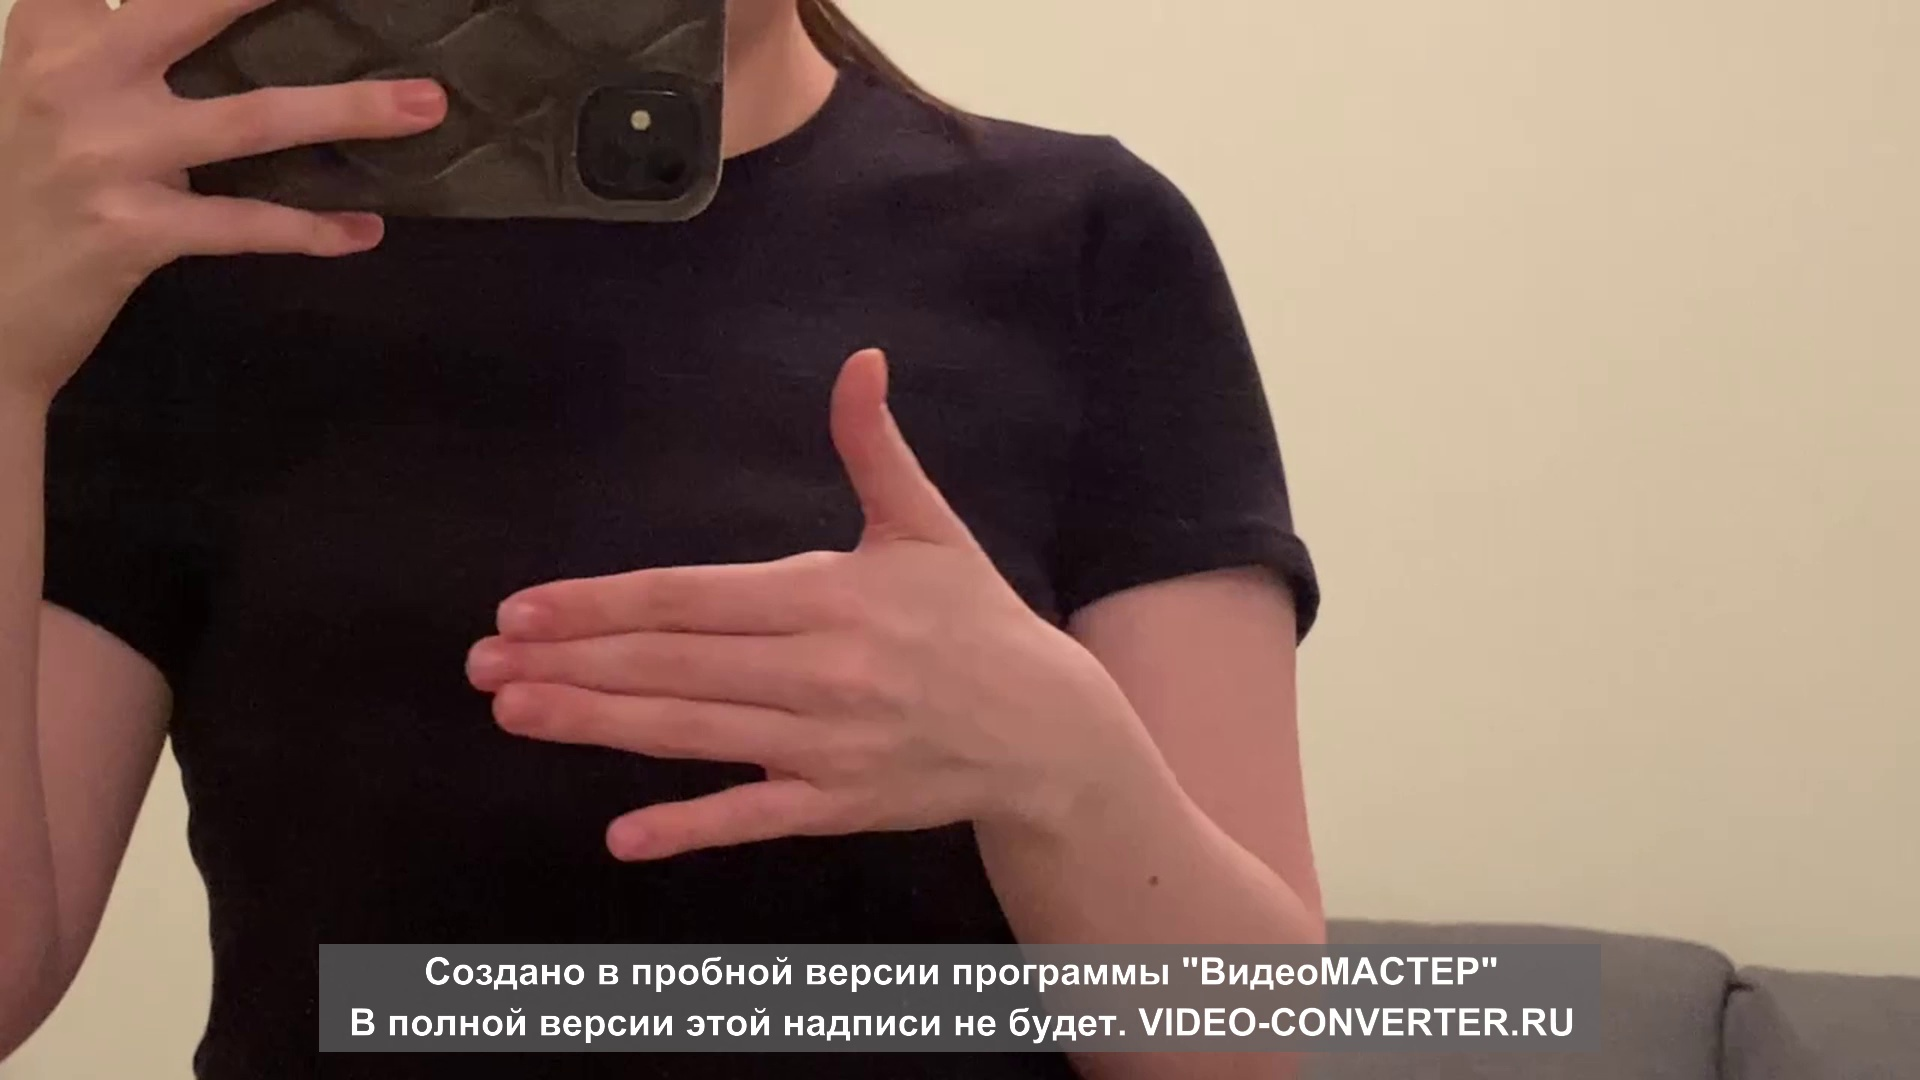Кисть: (465, 345, 1067, 861)
